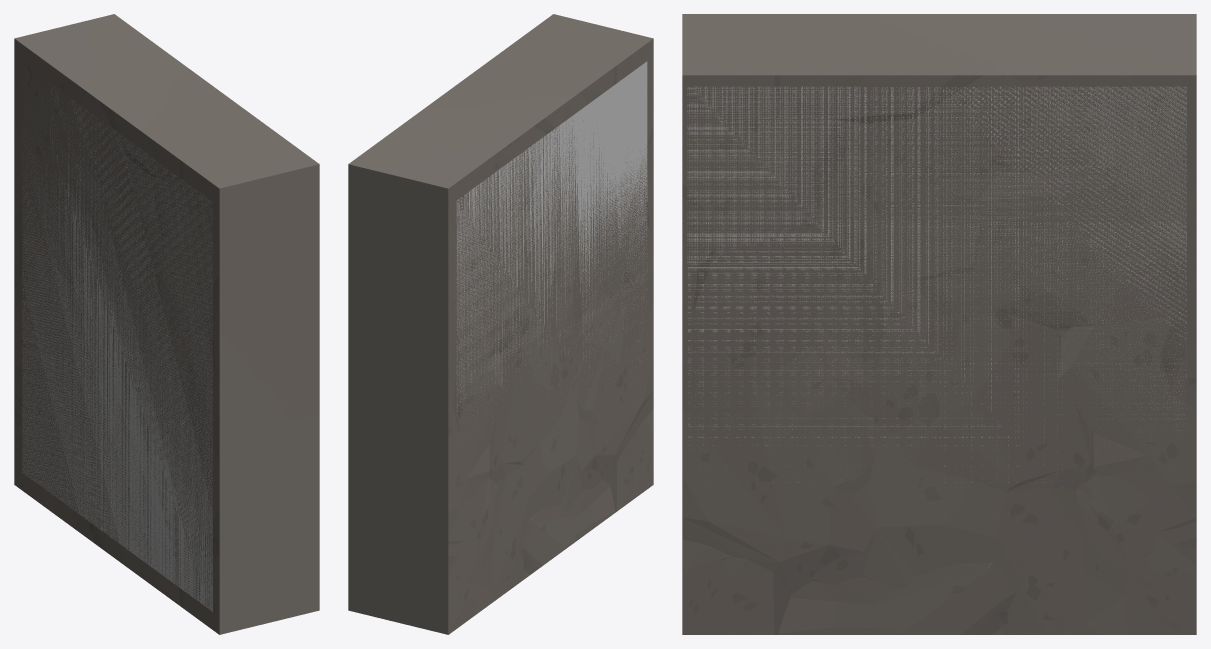
File: SM_Bld_House_Base_Wall_02.fbx
3 renders of one model, left to right at view 1: azimuth 30°, elevation 25°; view 2: azimuth 150°, elevation 25°; view 3: azimuth 270°, elevation 25°, orthographic. The views are drawn at different scales.
Visible parts, largest first — view 1: SM_Bld_House_Base_Wall_02, SM_Bld_House_Base_Wall_02_ConvexHulls; view 2: SM_Bld_House_Base_Wall_02, SM_Bld_House_Base_Wall_02_ConvexHulls; view 3: SM_Bld_House_Base_Wall_02, SM_Bld_House_Base_Wall_02_ConvexHulls.
Part boxes in pixels (left/top/right/bottom): SM_Bld_House_Base_Wall_02: left=14, top=14, right=319, bottom=634; SM_Bld_House_Base_Wall_02_ConvexHulls: left=22, top=73, right=212, bottom=611; SM_Bld_House_Base_Wall_02: left=348, top=14, right=653, bottom=634; SM_Bld_House_Base_Wall_02_ConvexHulls: left=456, top=61, right=647, bottom=411; SM_Bld_House_Base_Wall_02: left=682, top=14, right=1196, bottom=634; SM_Bld_House_Base_Wall_02_ConvexHulls: left=687, top=86, right=1186, bottom=513.
Size of the model in its own units: 70.48 by 250 by 300.
Materials: 2 (1 with a texture image).
